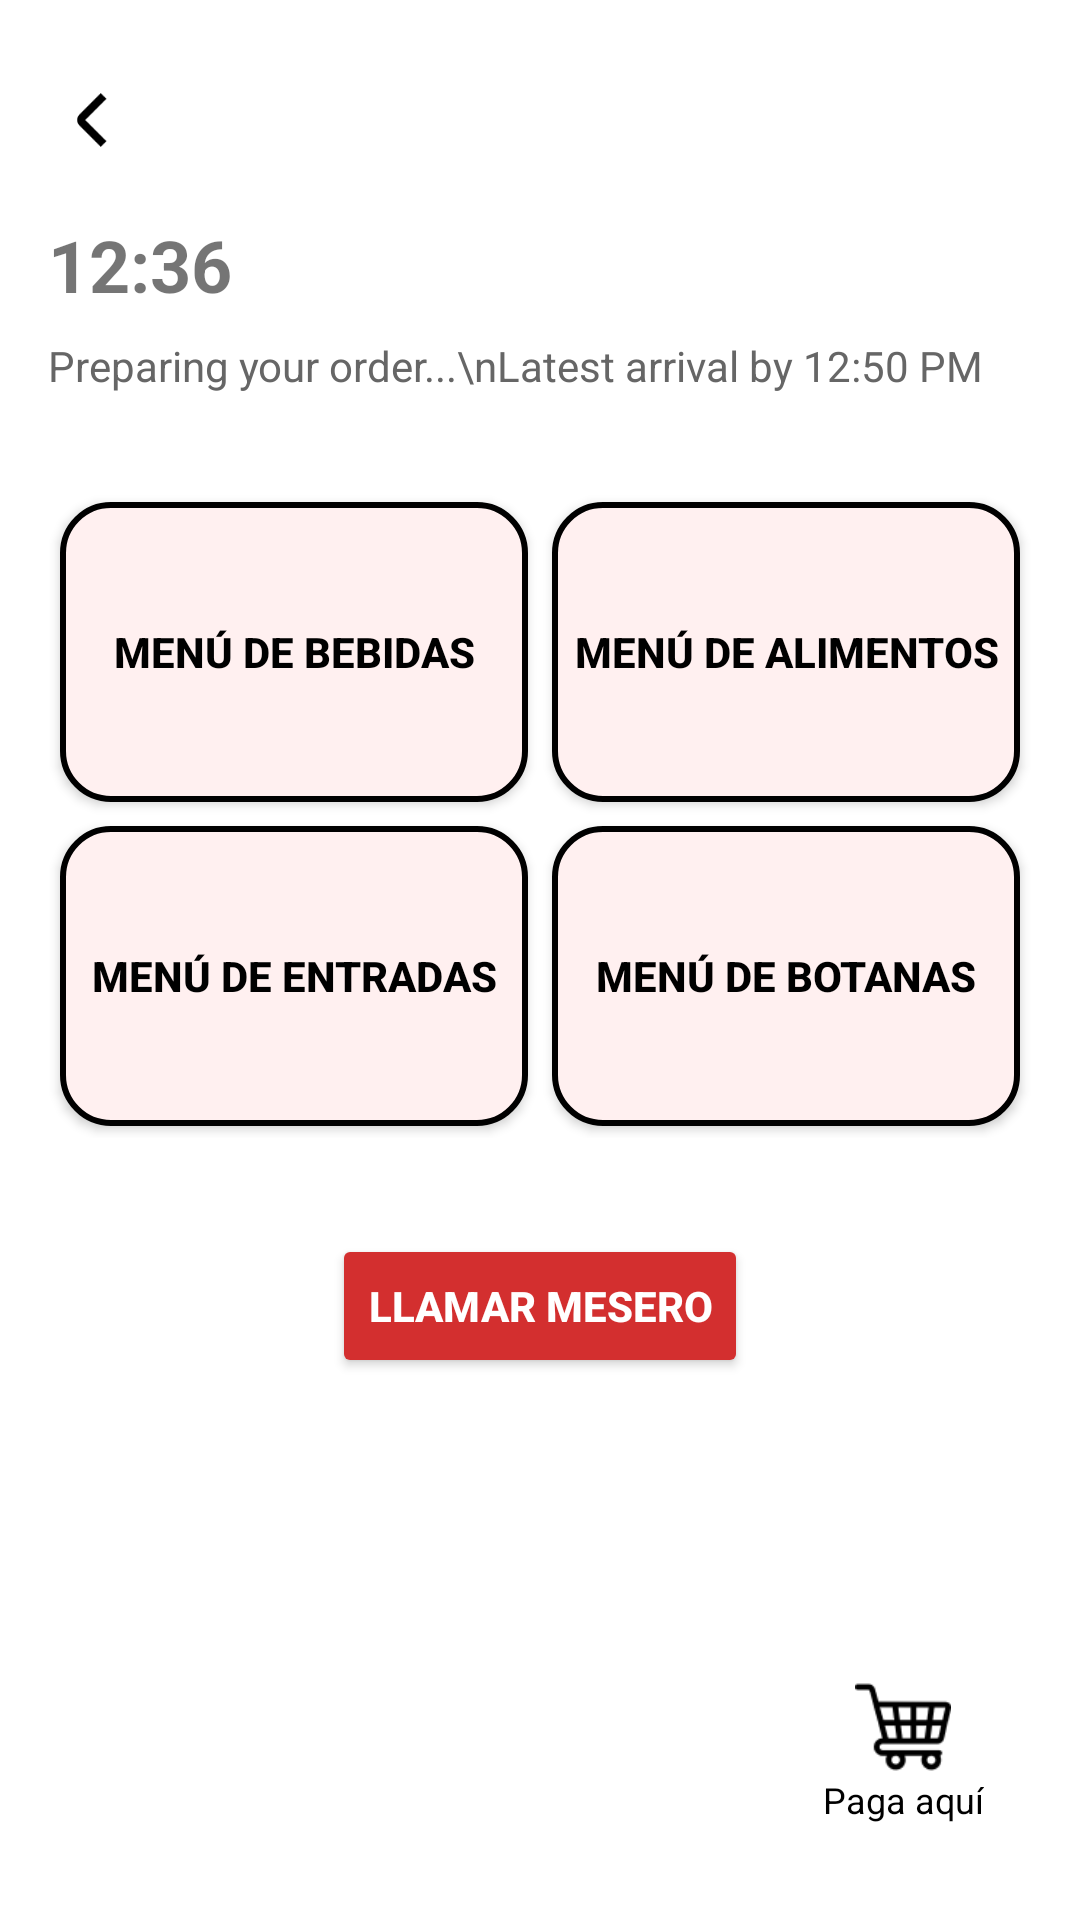

Icon bounding boxes for this 1080x1920 phone screenshot, format (x1, y1, x2, y2):
Volver: (77, 93, 107, 147)
